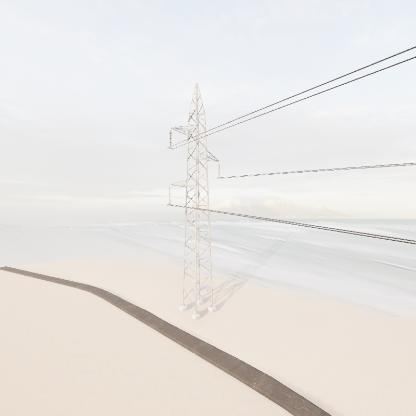tower: (166, 87, 225, 322)
